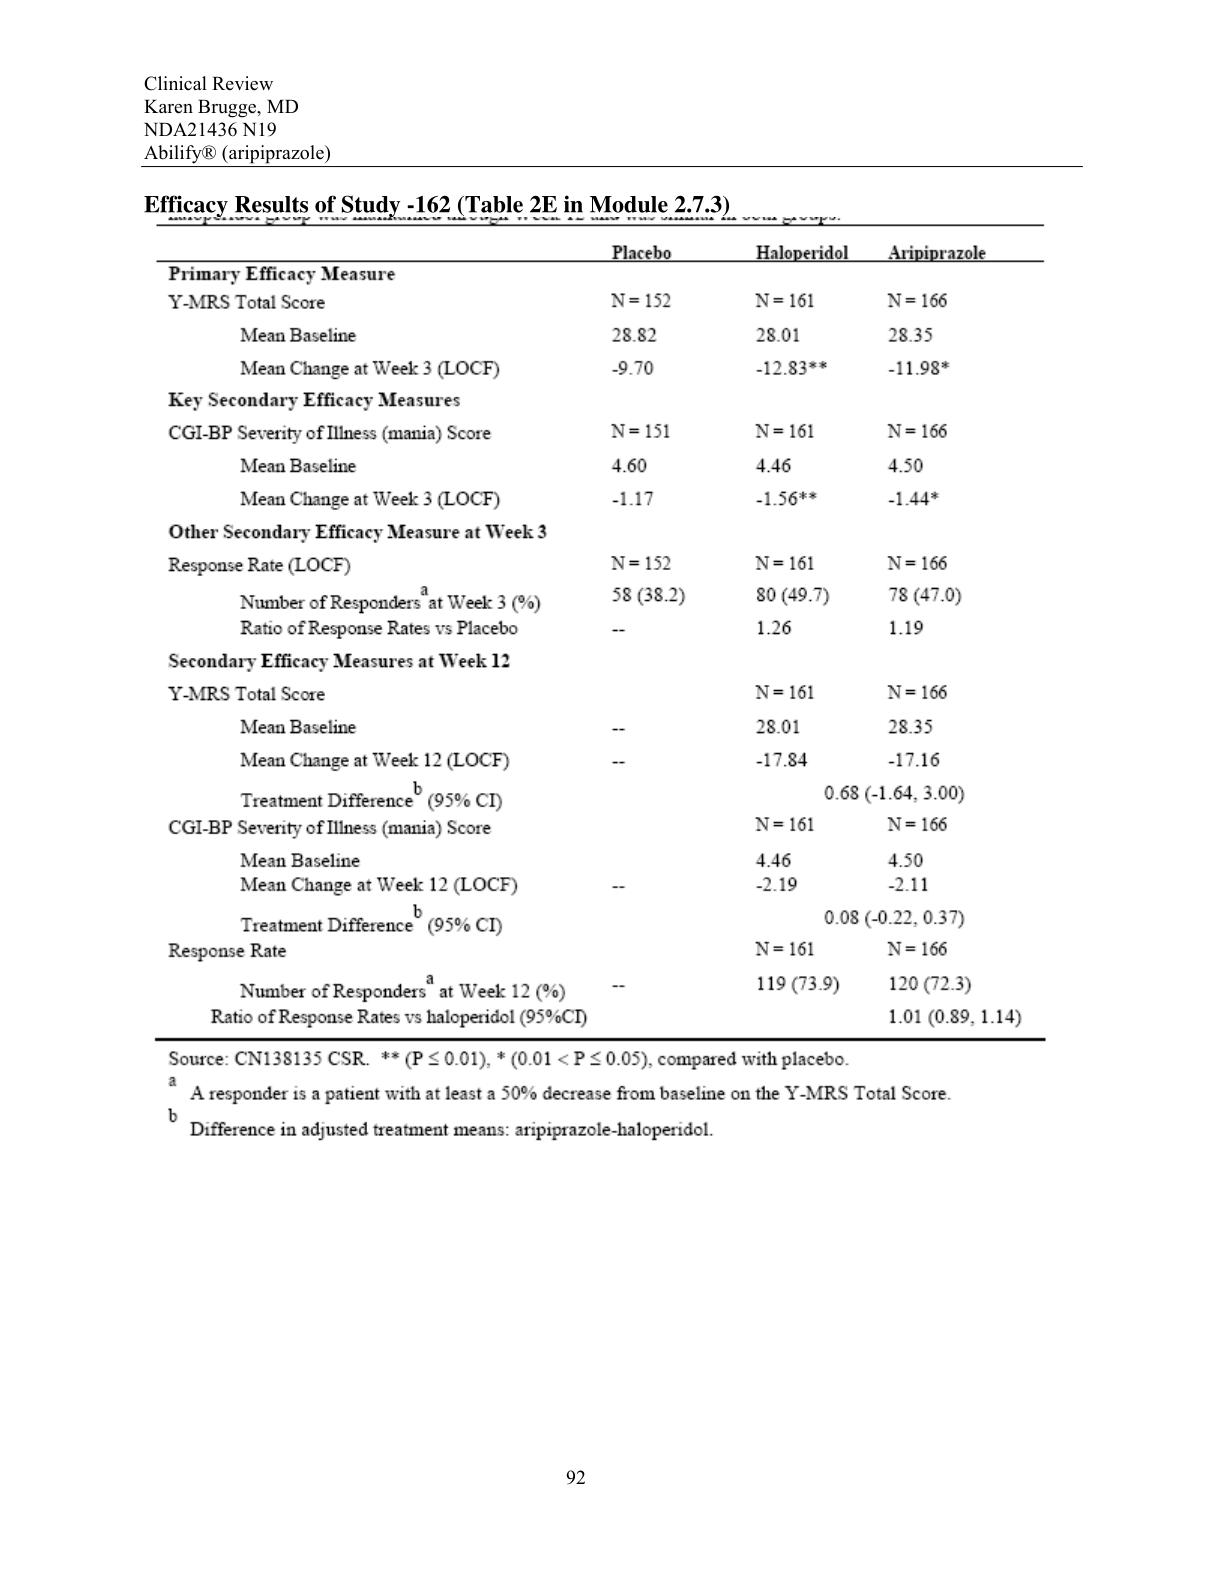partial_lined: (156, 224, 1047, 1045)
